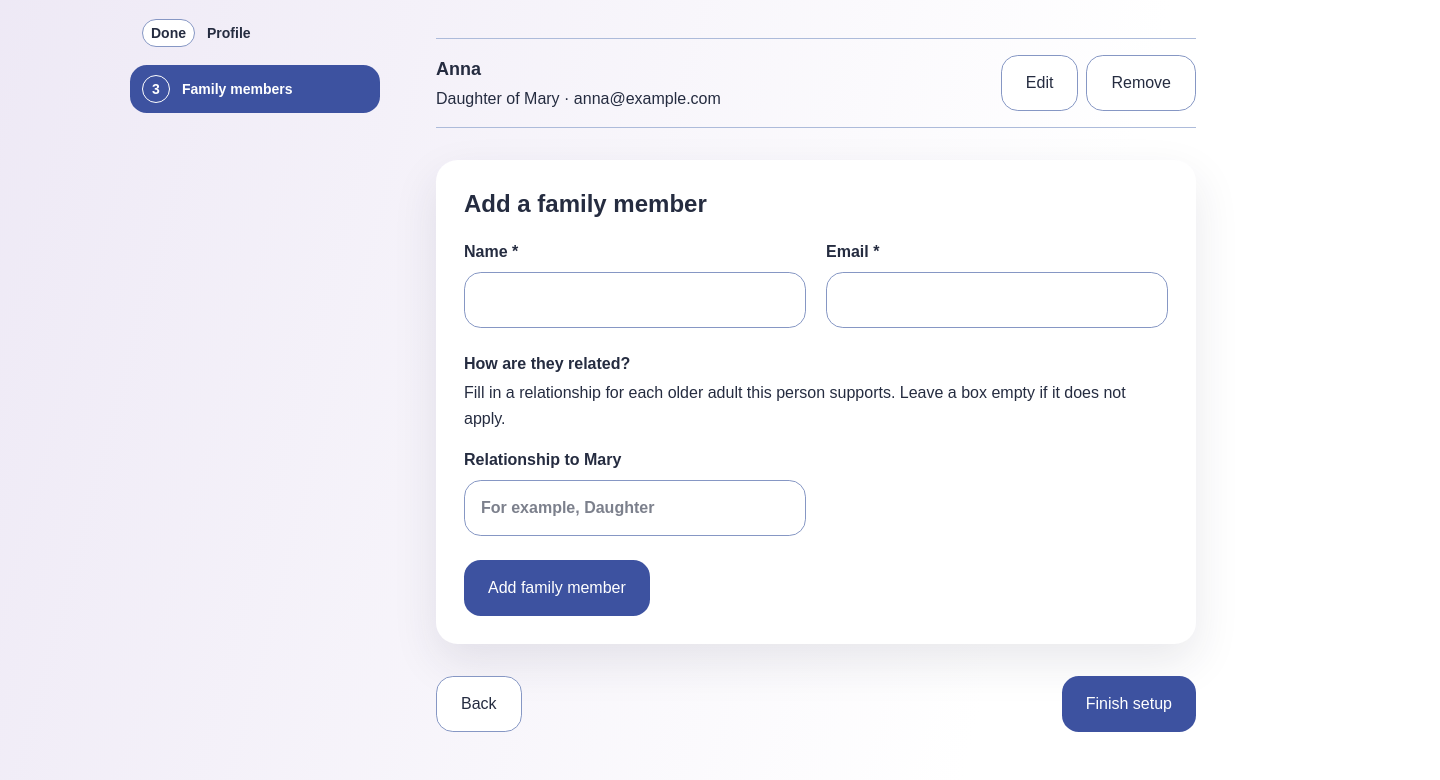
Scenario: SetupWizard › hands over to the older adult instead of sending the organizer onward
(page scrolled)
Click the button "Finish setup". click: (1129,704)
box: [1062,676,1196,732]
(page scrolled)
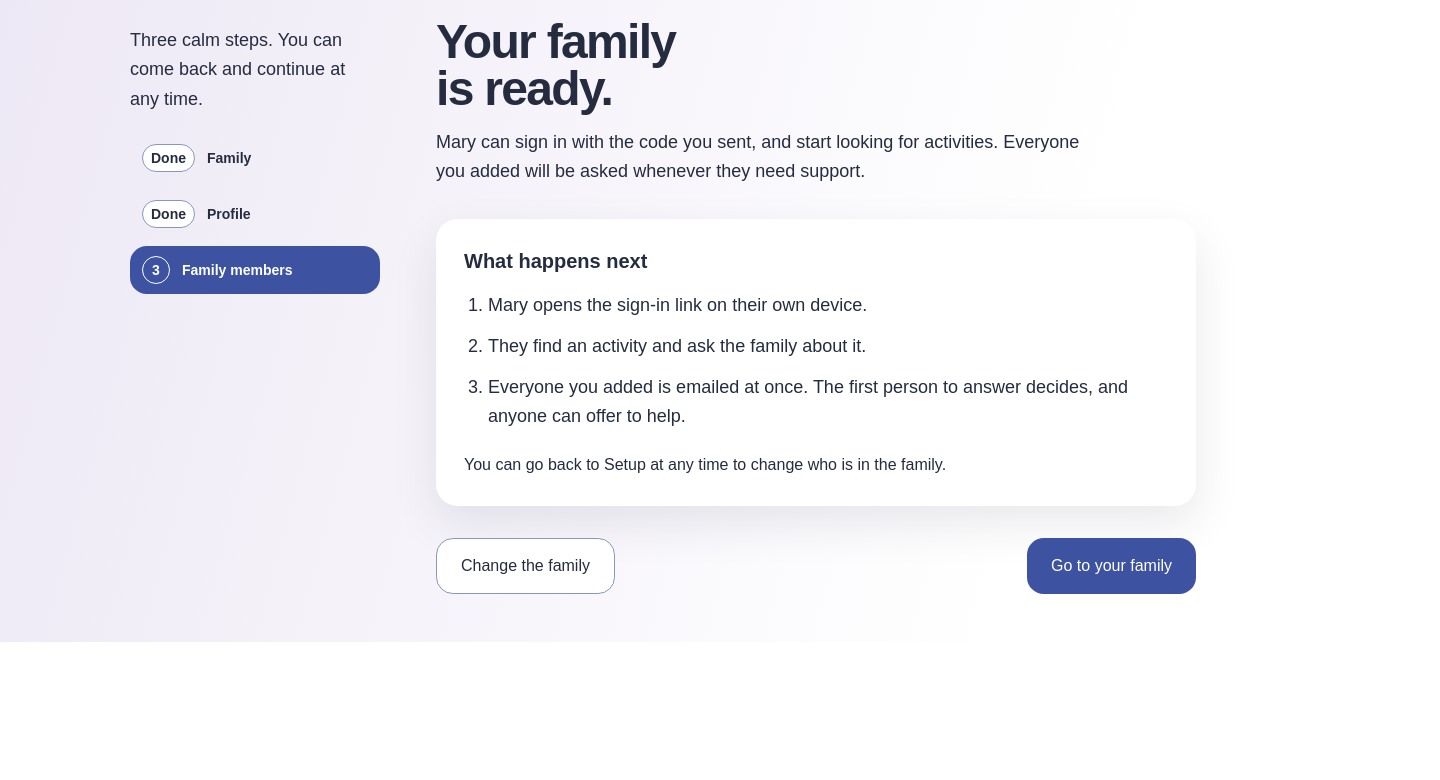
Expected: the heading "Your family is ready." is shown, [436,15,675,115]
Expected: the text "Mary can sign in with the code you sent" is shown, [436,132,1079,181]
